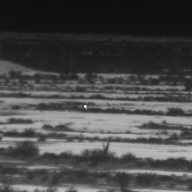Target: (83, 104, 88, 109)
